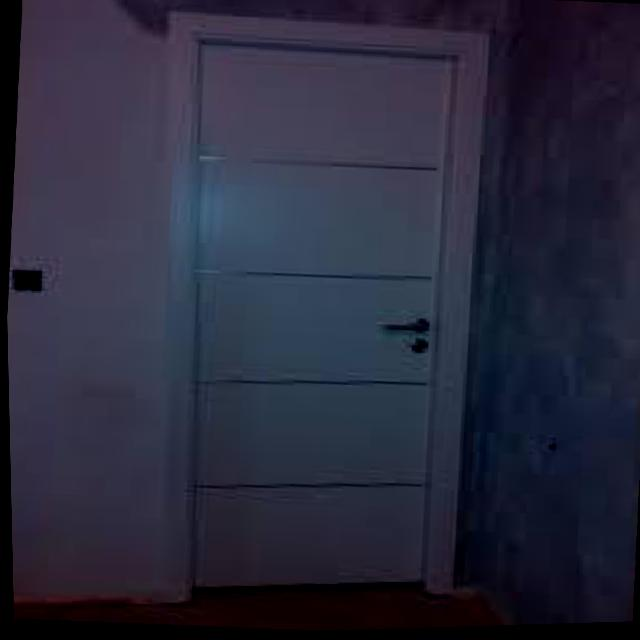close: (110, 0, 528, 636)
